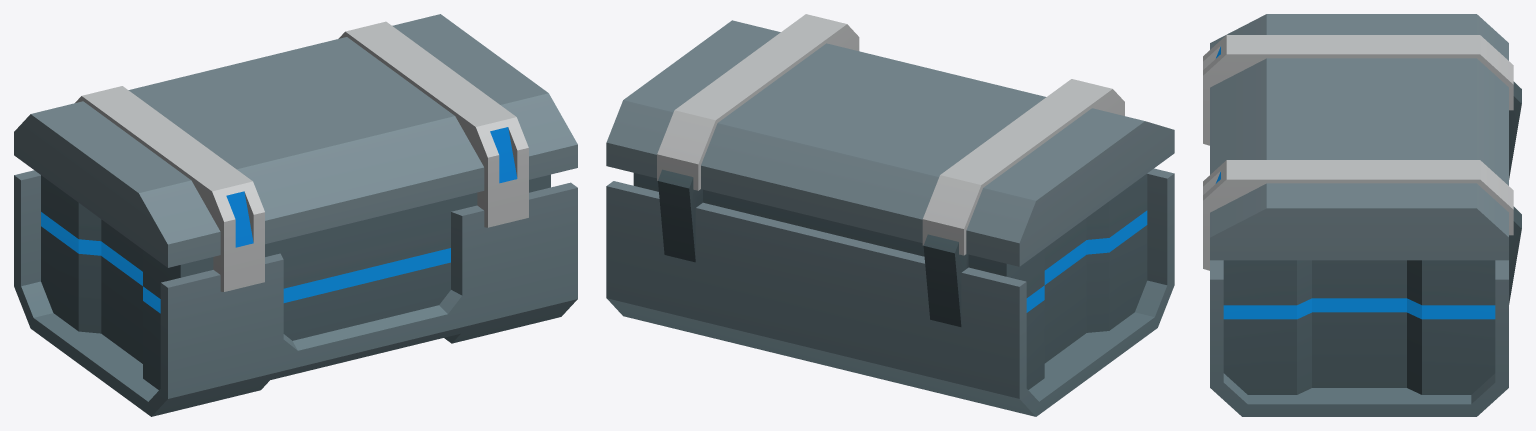
Rendered from Crate_015.glb.
3 renders of one model, left to right at view 1: azimuth 30°, elevation 25°; view 2: azimuth 150°, elevation 25°; view 3: azimuth 270°, elevation 25°, orthographic. The views are drawn at different scales.
Visible parts, largest first — view 1: Crate_015; view 2: Crate_015; view 3: Crate_015.
Part boxes in pixels (x1,y1,x2,y2): Crate_015: [14, 14, 577, 416]; Crate_015: [606, 14, 1174, 416]; Crate_015: [1203, 14, 1521, 416].
Bounding box in the file's own units: 1 × 0.5094 × 0.6928.
2 materials, 2 textured.
